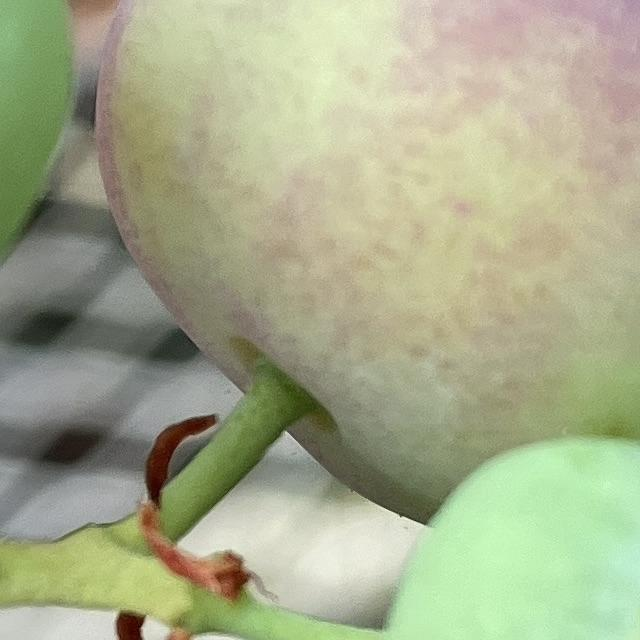Blueberries: (90, 0, 640, 526), (373, 413, 640, 640)
